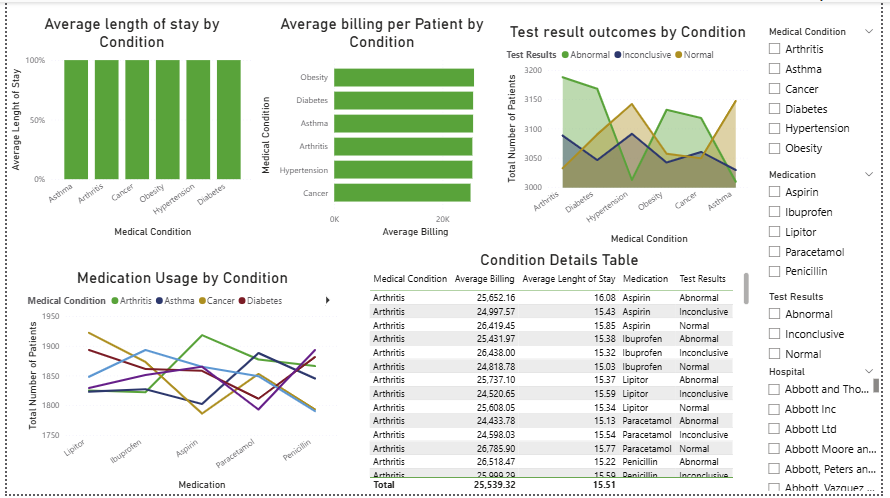

What the dashboard file says about the page in this screenshot:
{"tool":"powerbi","page":{"name":"Medical Condition Analysis","canvas":[1280,720],"ordinal":2},"visuals":[{"type":"hundredPercentStackedColumnChart","title":"Average length of stay by Condition","fields":{"Category":["healthcare_dataset.Medical Condition"],"Y":["healthcare_dataset.Average Lenght of Stay"]},"box":[0,19,365.9,329.3],"z":0},{"type":"barChart","title":"Average billing per Patient by Condition","fields":{"Category":["healthcare_dataset.Medical Condition"],"Y":["healthcare_dataset.Average Billing"]},"box":[365.9,19,365.9,329.3],"z":1000},{"type":"areaChart","title":"Test result outcomes by Condition","fields":{"Category":["healthcare_dataset.Medical Condition"],"Y":["healthcare_dataset.Total Number of Patients"],"Series":["healthcare_dataset.Test Results"]},"box":[725.9,30.7,365.9,329.3],"z":2000},{"type":"lineChart","title":"Medication Usage by Condition","fields":{"Category":["healthcare_dataset.Medication"],"Y":["healthcare_dataset.Total Number of Patients"],"Series":["healthcare_dataset.Medical Condition"]},"box":[24.9,390.7,463.9,329.3],"z":3000},{"type":"tableEx","title":"Condition Details Table","fields":{"Values":["healthcare_dataset.Medical Condition","healthcare_dataset.Average Billing","healthcare_dataset.Average Lenght of Stay","healthcare_dataset.Medication","healthcare_dataset.Test Results"]},"box":[525.4,364.4,566.3,355.6],"z":4000},{"type":"slicer","fields":{"Values":["healthcare_dataset.Medical Condition"]},"box":[1102,30.7,178.5,209.3],"z":5000},{"type":"slicer","fields":{"Values":["healthcare_dataset.Medication"]},"box":[1102,240,178.5,175.6],"z":6000},{"type":"slicer","fields":{"Values":["healthcare_dataset.Test Results"]},"box":[1101.4,418.5,178.5,120],"z":7000},{"type":"slicer","fields":{"Values":["healthcare_dataset.Hospital"]},"box":[1102,528.3,178.5,191.7],"z":8000}]}

Visuals, with their boxes in screenshot pixels (x1, y1, x2, y2), scaled from the page's 1280x720 canvas onto the 890x498 screenshot:
"Average length of stay by Condition" hundredPercentStackedColumnChart: [0, 13, 254, 241]
"Average billing per Patient by Condition" barChart: [254, 13, 509, 241]
"Test result outcomes by Condition" areaChart: [505, 21, 759, 249]
"Medication Usage by Condition" lineChart: [17, 270, 340, 497]
"Condition Details Table" tableEx: [365, 252, 759, 497]
slicer - healthcare_dataset.Medical Condition: [766, 21, 889, 166]
slicer - healthcare_dataset.Medication: [766, 166, 889, 287]
slicer - healthcare_dataset.Test Results: [766, 289, 889, 372]
slicer - healthcare_dataset.Hospital: [766, 365, 889, 497]
